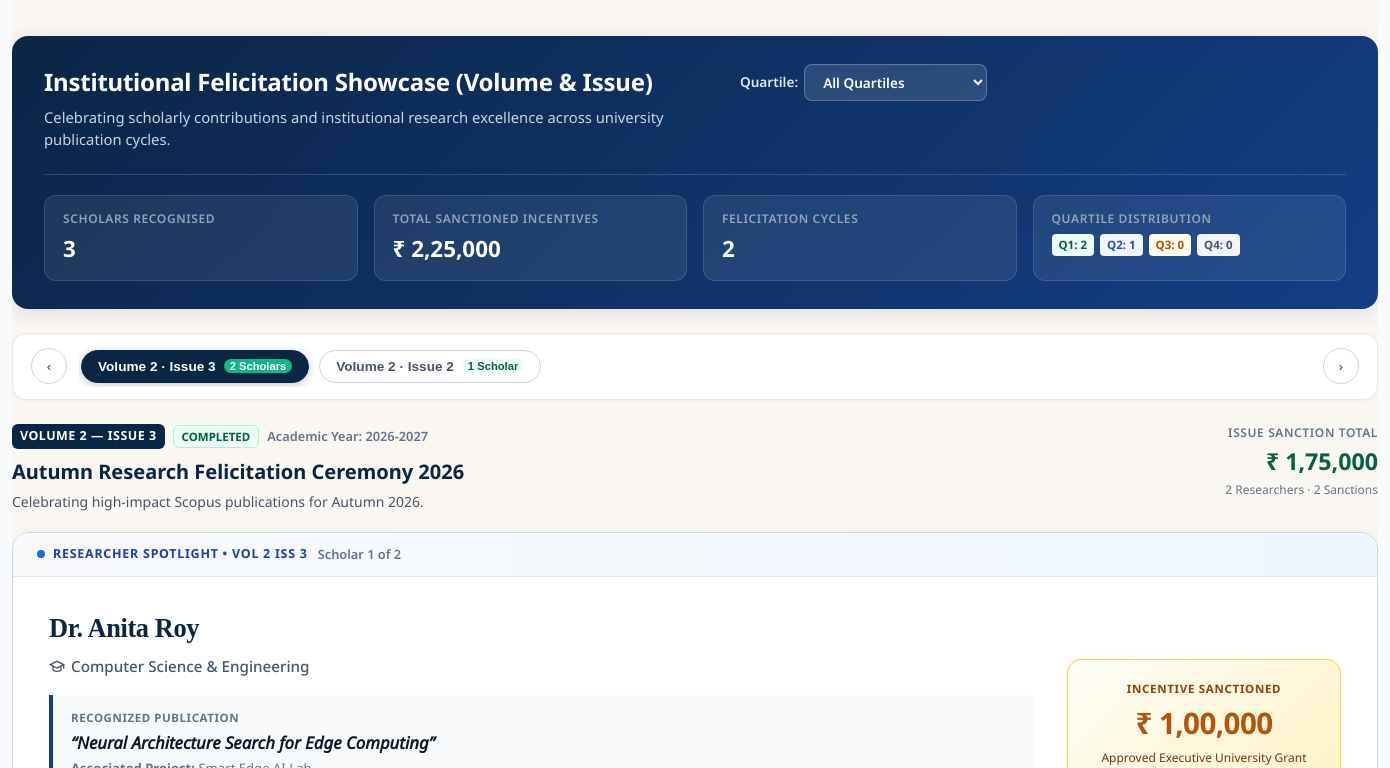
it: FelicitationShowcase Component Tests › 4. Allows switching active issue via issue navigation tabs
# Click Volume 2 Issue 2 tab
What coordinates should you click on to do the following:
click the tab "Volume 2 · Issue 2 1 Scholar"
I would click on:
 (430, 366)
Its box is left=319, top=350, right=541, bottom=383.
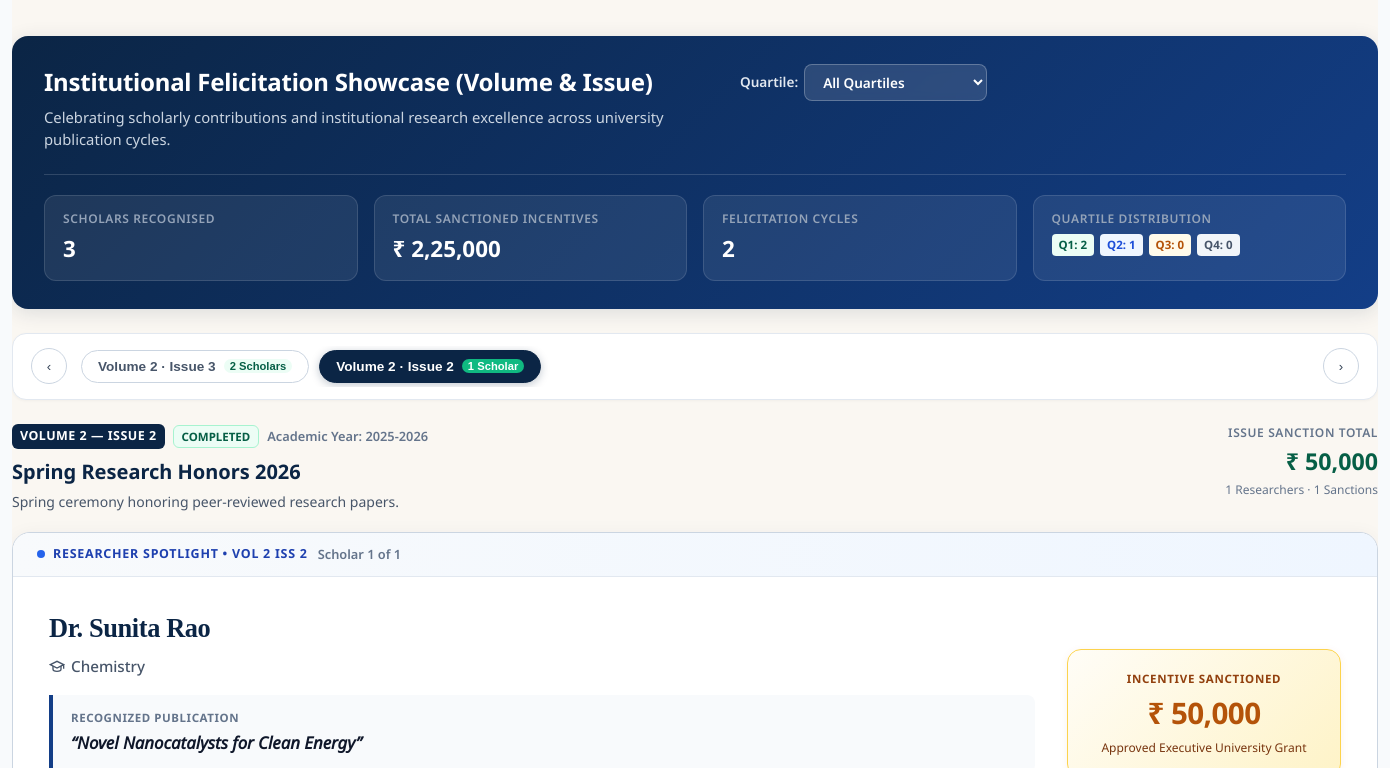
Result: the heading "Dr. Sunita Rao" is shown at left=49, top=613, right=210, bottom=643
Result: the text "Chemistry" is shown at left=71, top=654, right=145, bottom=677
Result: the text "“Novel Nanocatalysts for Clean Energy”" is shown at left=71, top=731, right=362, bottom=754
